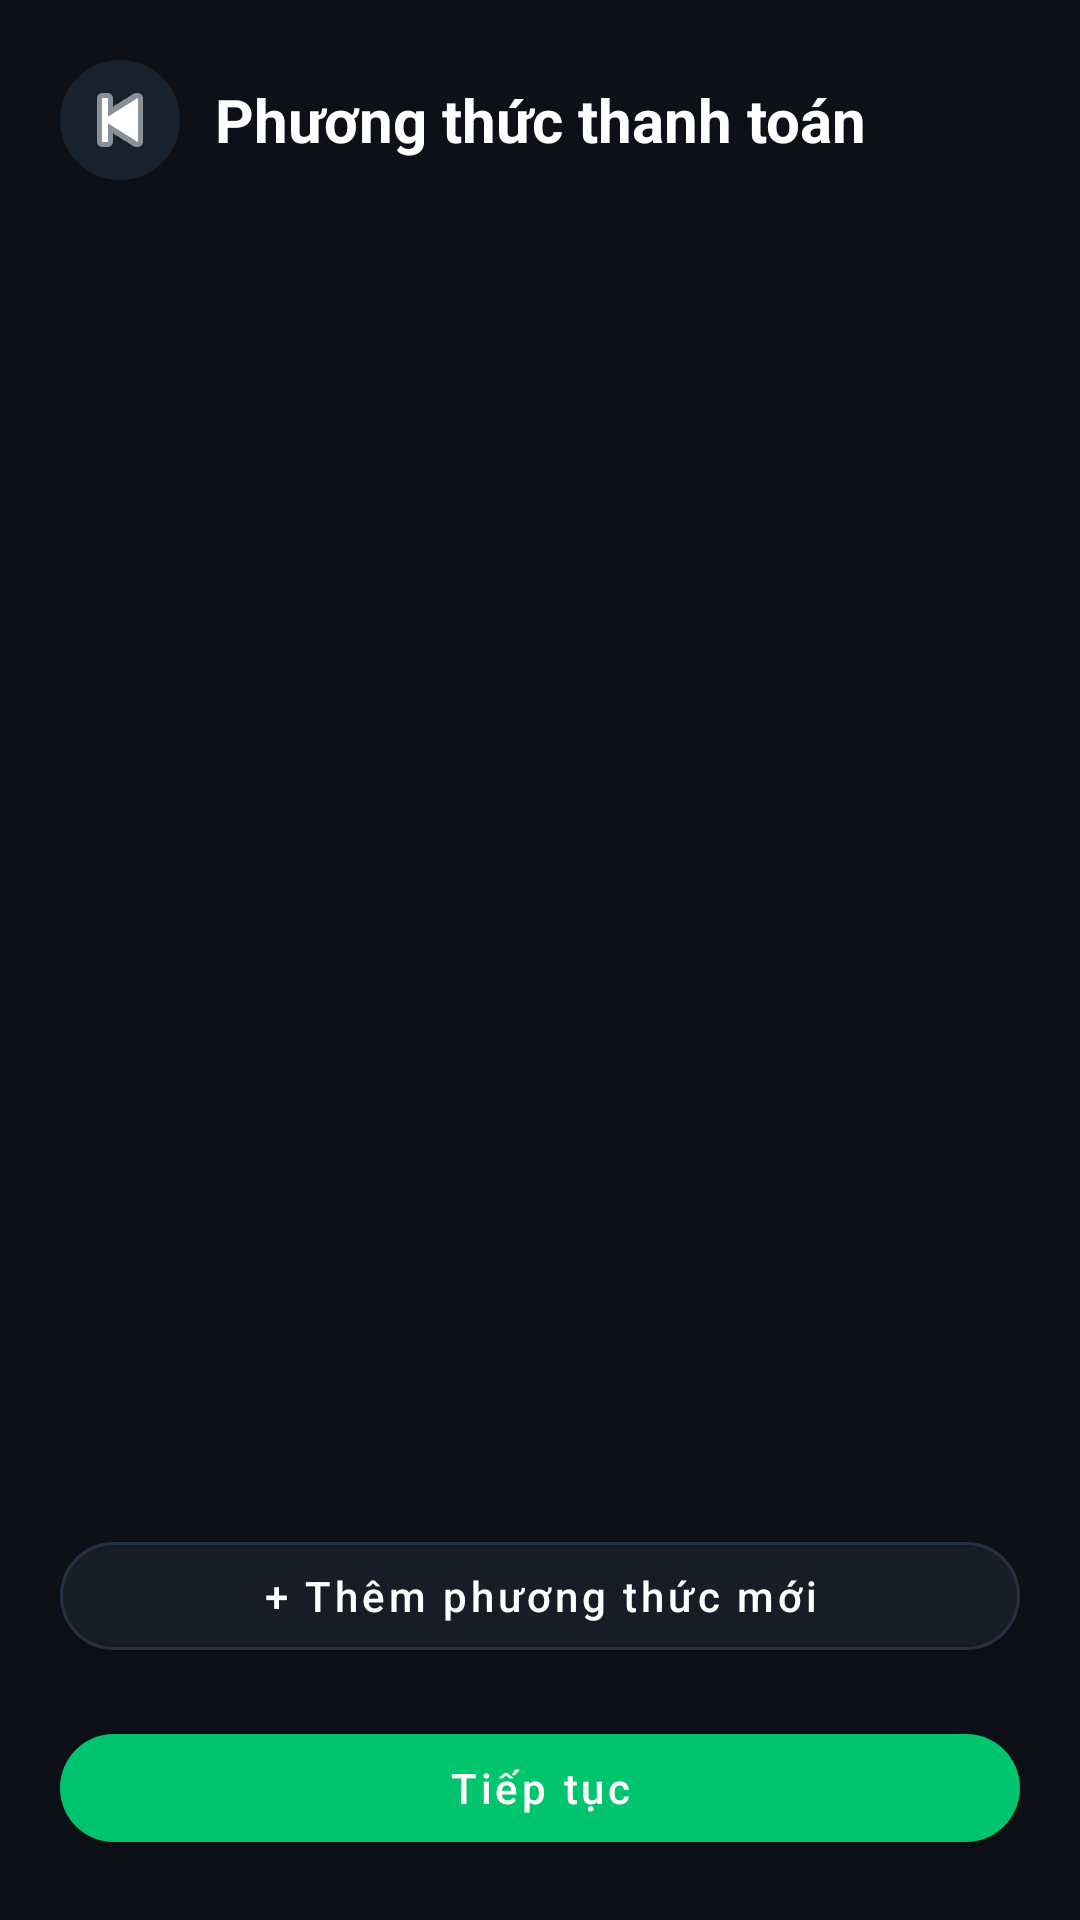

Named icons in this screenshot (1080 × 1920) and their centers, [x,y]:
Quay lại: [120,120]
